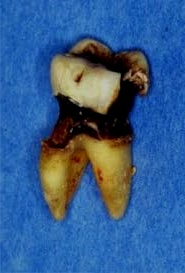Caries: (44, 47, 153, 153)
Tooth Discoloration: (41, 43, 151, 218)
